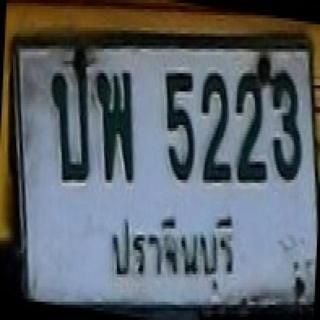A27: (47, 56, 95, 186)
A30: (94, 68, 140, 188)
N02: (198, 69, 234, 184), (235, 66, 267, 187)
N03: (270, 67, 303, 186)
N05: (158, 67, 199, 185)
P49: (102, 210, 242, 292)
